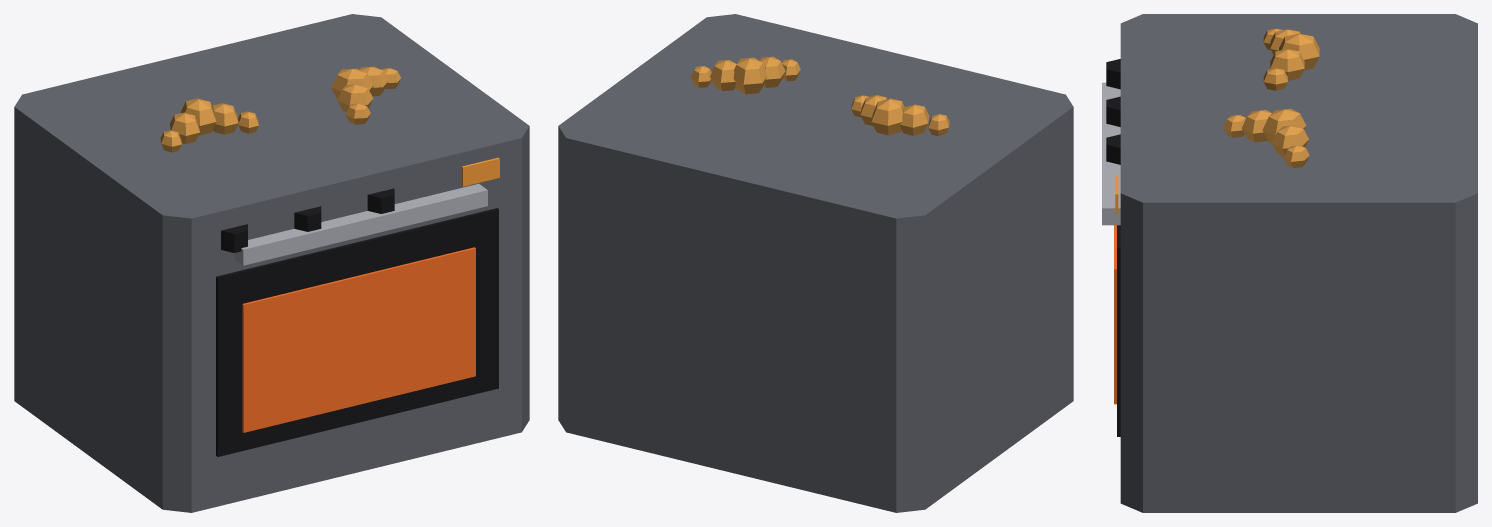
Rendered from oven.obj.
The picture shows the model from 3 angles, left to right: view 1: azimuth 30°, elevation 25°; view 2: azimuth 150°, elevation 25°; view 3: azimuth 270°, elevation 25°; orthographic projection. The views are drawn at different scales.
Visible parts, largest first — view 1: oven; view 2: oven; view 3: oven.
Part boxes in pixels (left/top/right/bottom): oven: left=14, top=14, right=529, bottom=512; oven: left=558, top=14, right=1073, bottom=512; oven: left=1102, top=14, right=1477, bottom=512.
Size of the model in its own units: 0.6 by 0.514 by 0.505.
